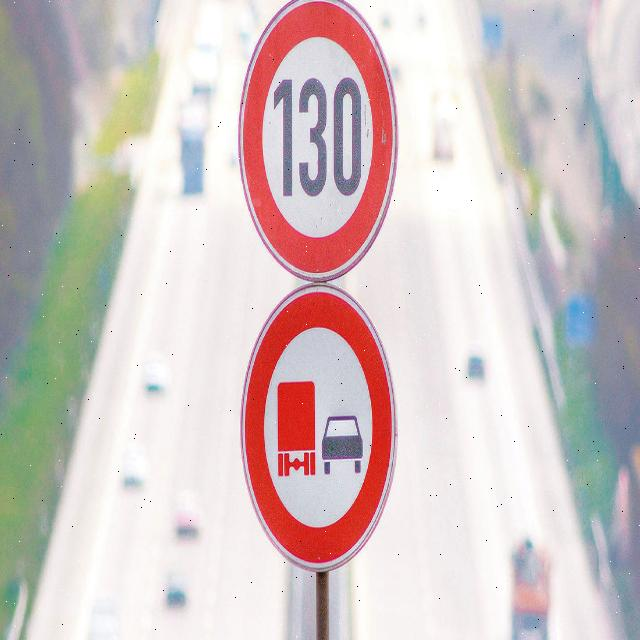speed limit 130: (239, 5, 400, 286)
